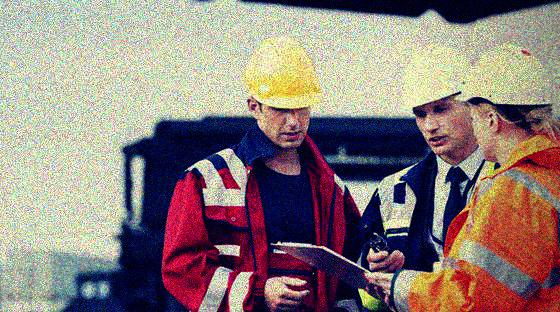helmet: (456, 43, 557, 162), (242, 36, 325, 148), (399, 43, 481, 152)
